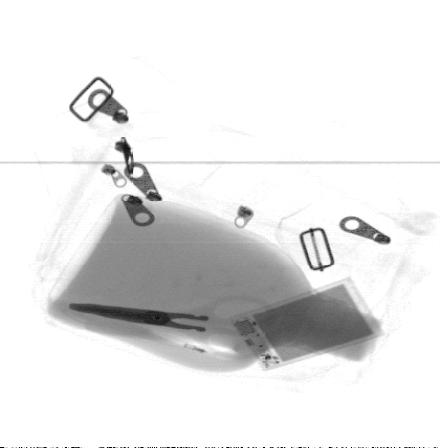Powerbank: (228, 274, 386, 373)
Scissors: (67, 294, 282, 365)
